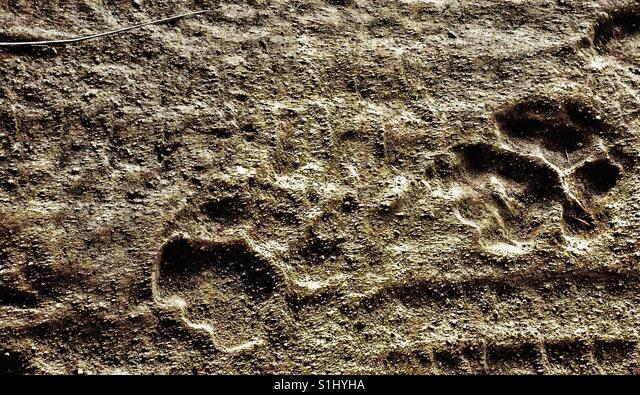cat: (150, 193, 340, 363), (428, 102, 616, 267)
